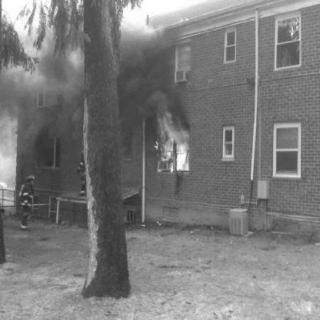Fire: (145, 100, 191, 170)
